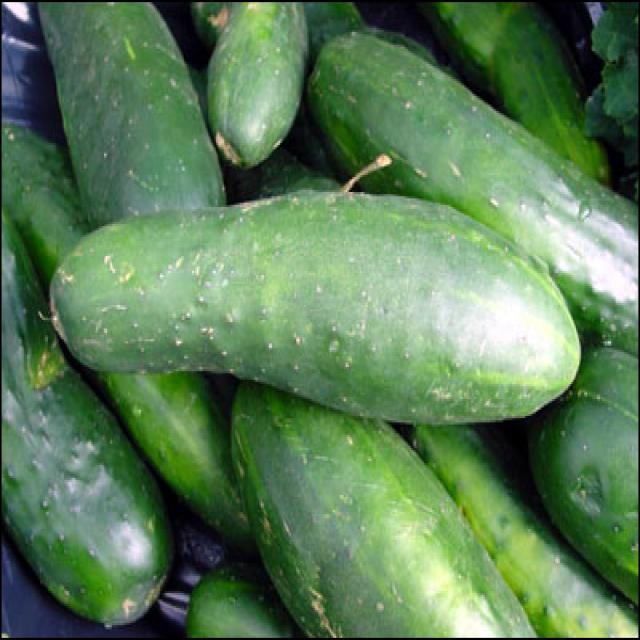cucumber: (42, 187, 585, 431), (304, 26, 640, 363), (221, 376, 541, 640), (1, 190, 177, 624), (40, 1, 233, 232), (206, 1, 316, 169)
